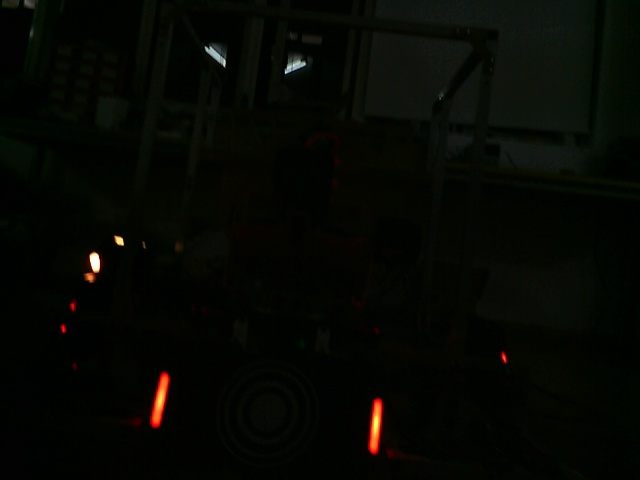lamp: (147, 367, 172, 429), (367, 398, 383, 455)
